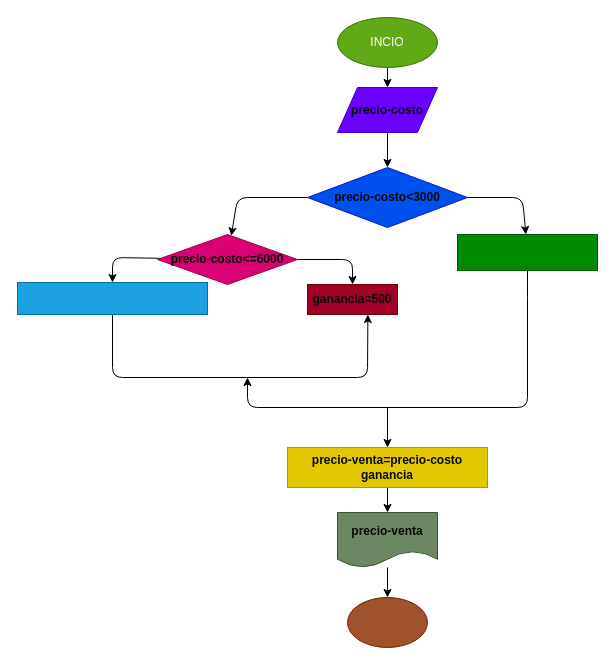
This 615x665 diagram has some shape labels left out. Here are the shapes that lost their labels. From the top down, the centre of each, then its label:
point (527, 252): gancia=0.15*precio-costo
point (112, 298): ganancia=0.25*precio-costo
point (387, 622): FIN
